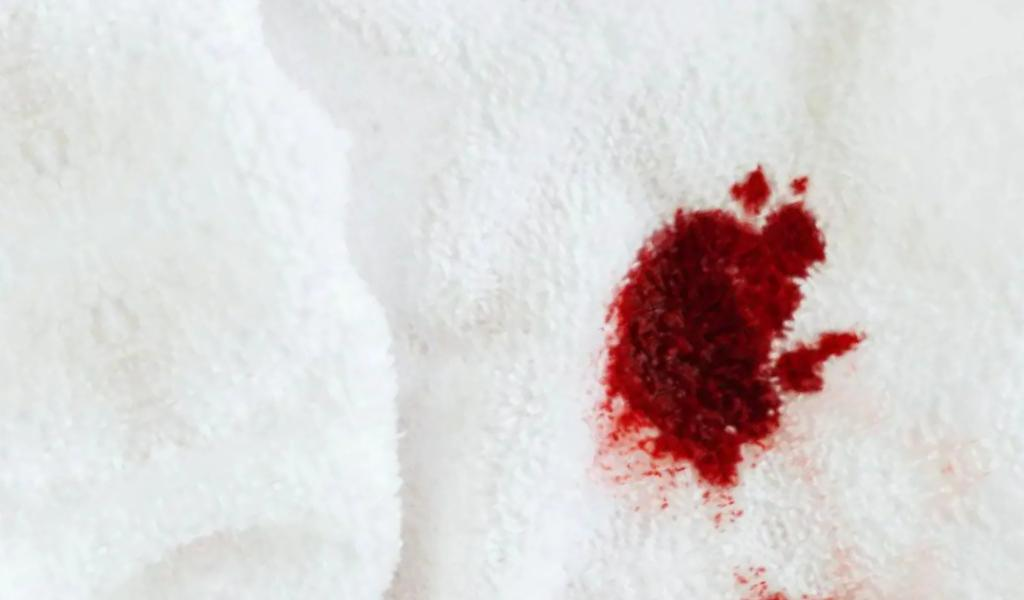stain: (598, 158, 879, 529)
